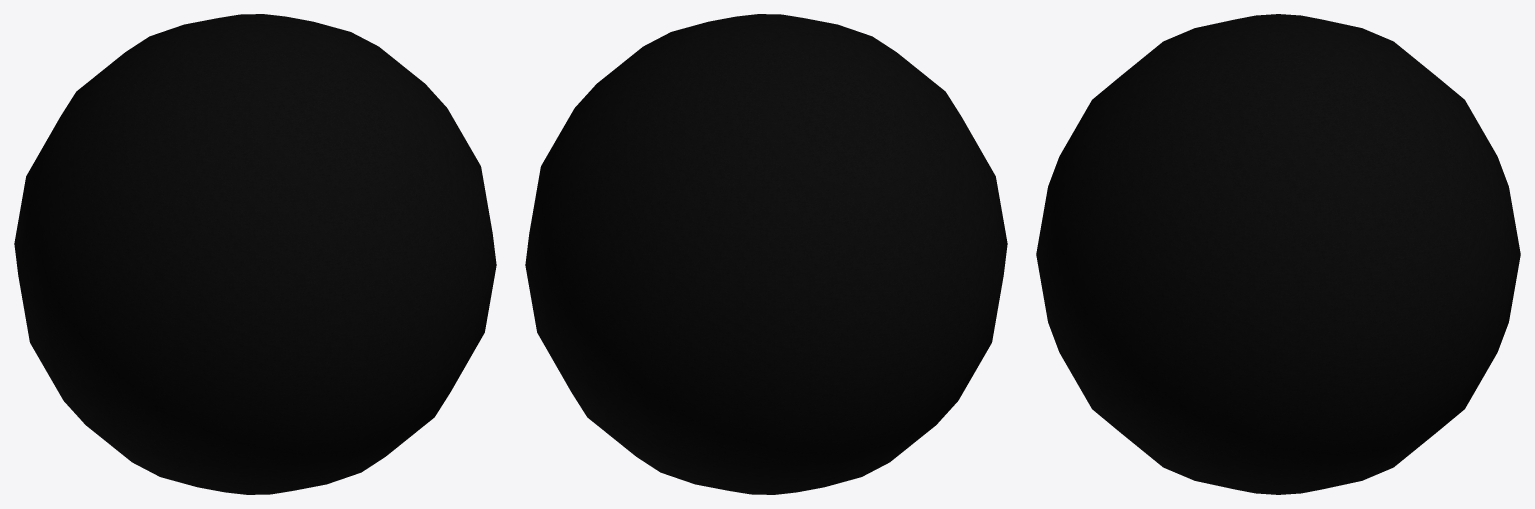
Rendered from The_Ark.dae.
The picture shows the model from 3 angles, left to right: view 1: azimuth 30°, elevation 25°; view 2: azimuth 150°, elevation 25°; view 3: azimuth 270°, elevation 25°; orthographic projection.
Parts seen in each view (by area): view 1: SimpleSphere02_13; view 2: SimpleSphere02_13; view 3: SimpleSphere02_13.
Part boxes in pixels (left/top/right/bottom): SimpleSphere02_13: left=14, top=14, right=496, bottom=494; SimpleSphere02_13: left=525, top=14, right=1007, bottom=494; SimpleSphere02_13: left=1036, top=14, right=1520, bottom=494.
Size of the model in its own units: 350954 by 350954 by 350954.
Materials: 16 (12 with a texture image).
